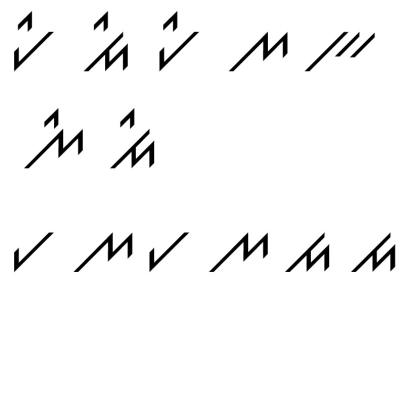da: (346, 228, 398, 280), (284, 227, 334, 277)
di: (107, 107, 162, 178), (79, 10, 134, 74)
na: (224, 24, 294, 77), (70, 226, 137, 279), (206, 227, 274, 278)
ni: (16, 107, 89, 174)
pa: (5, 222, 57, 273), (145, 225, 193, 273)
pi: (150, 10, 203, 75), (7, 8, 58, 72)
